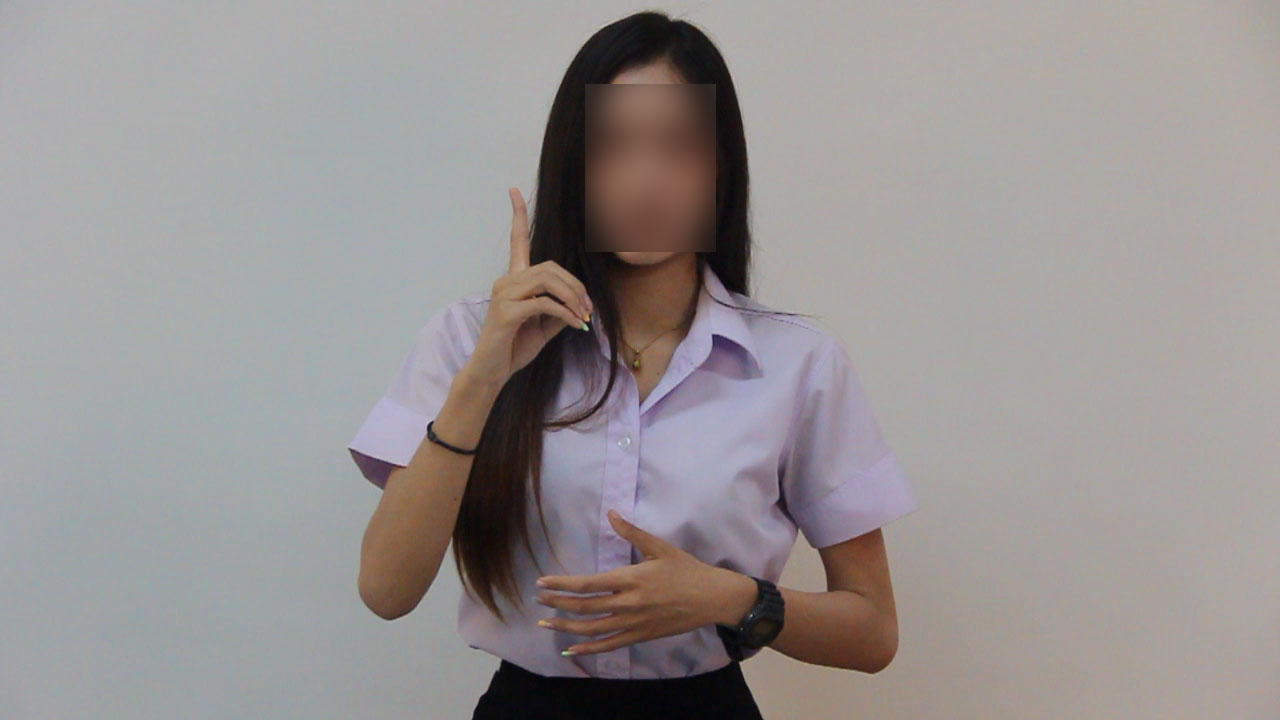dor: (451, 181, 600, 381)
